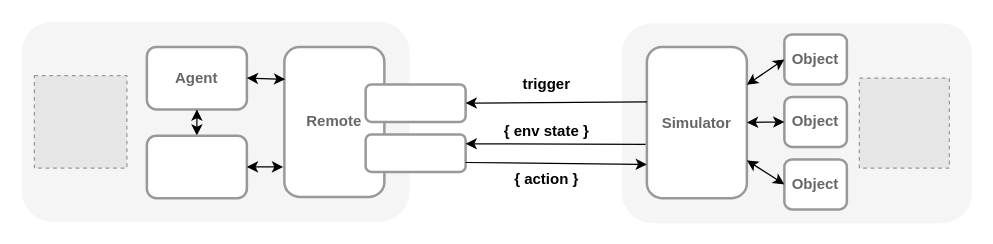
The diagram is 993 pixels wide and 244 high, and some of its shapes have lost their labels. Grey dashed boxes stand in for pictures. Here are the shapes that lost their labels. From the top down, the centre of each, then its label:
At point (415, 102): "/init".
At point (196, 166): "Environment state".
At point (415, 152): "/step".
